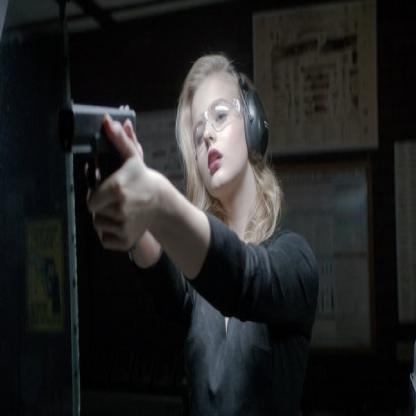Pistol: (58, 91, 141, 226)
